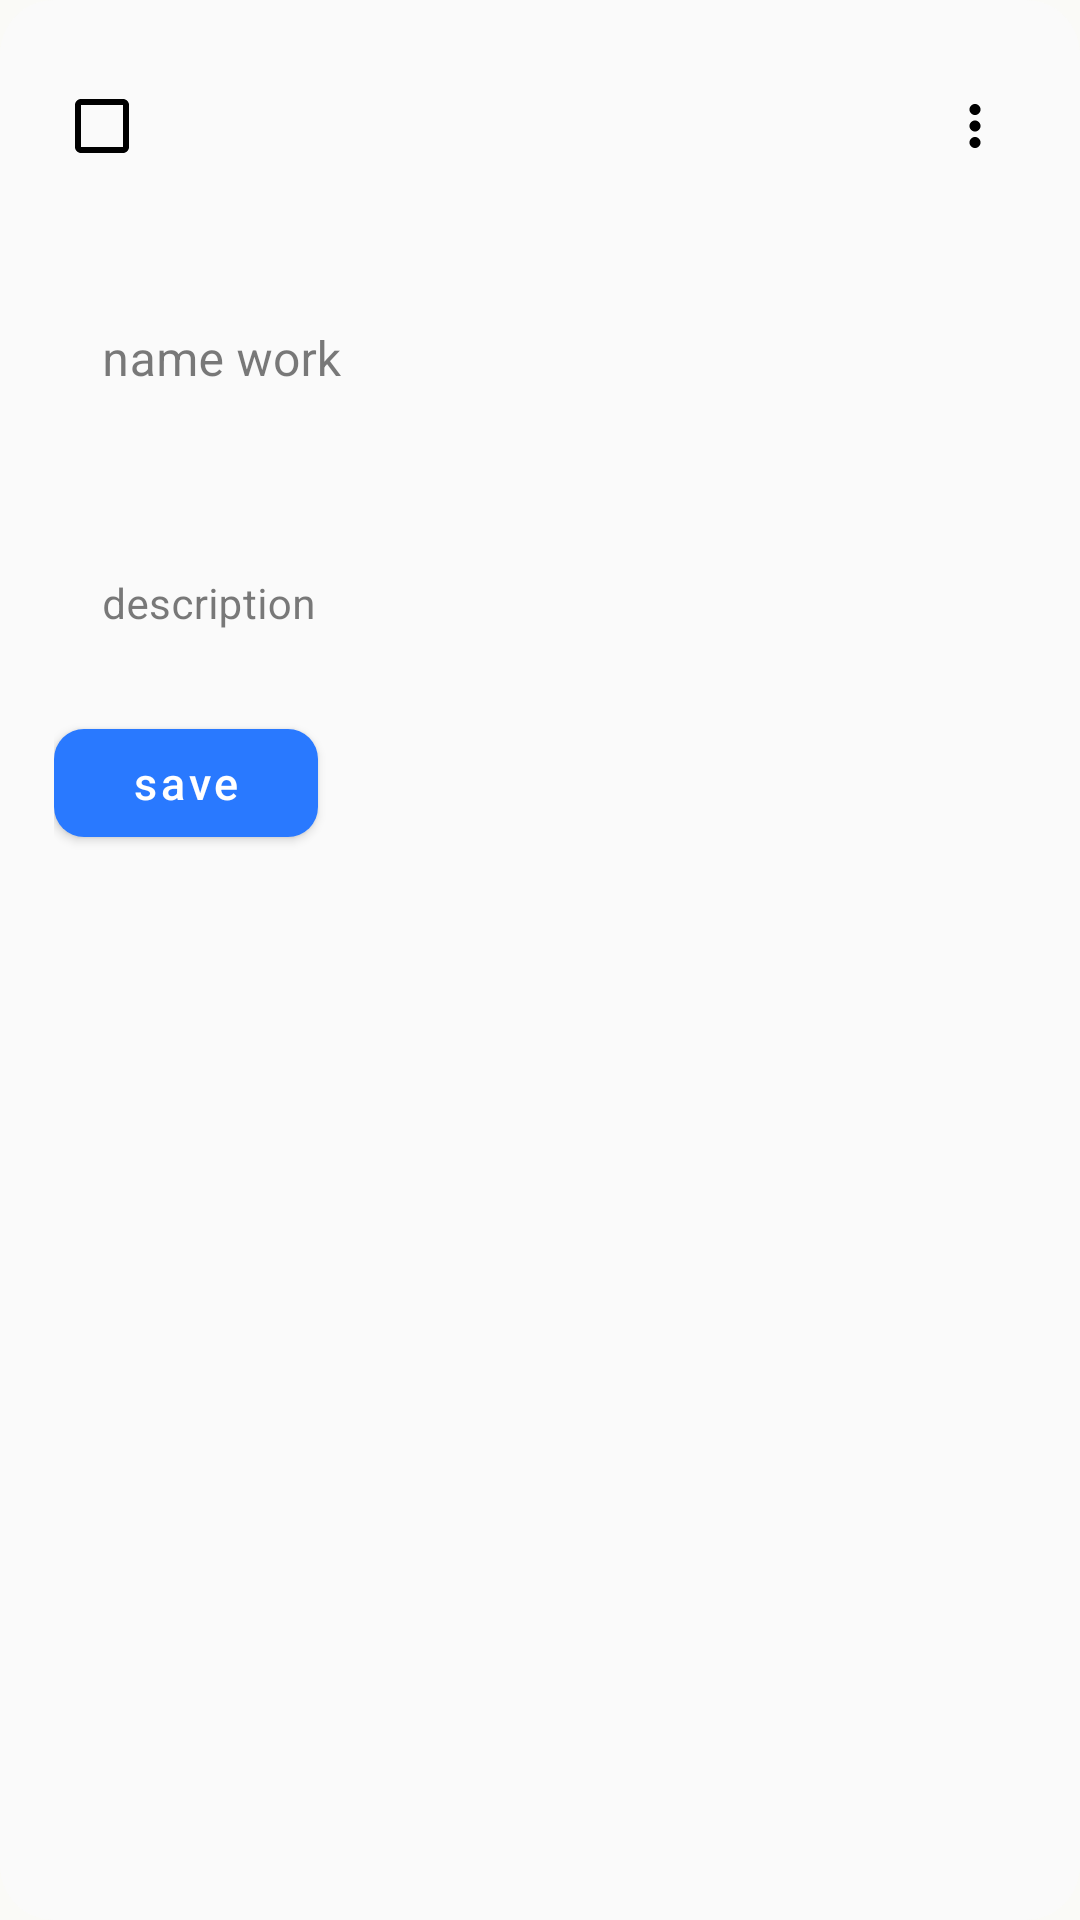

Where to tap for icons on this 1080w x 1920h app screen, as [x,y]:
more vert: [975,126]
